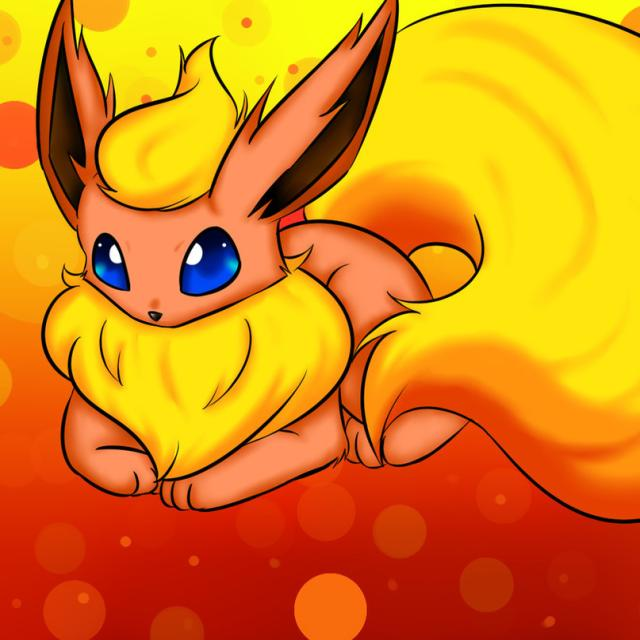Flareon: (49, 59, 494, 488)
